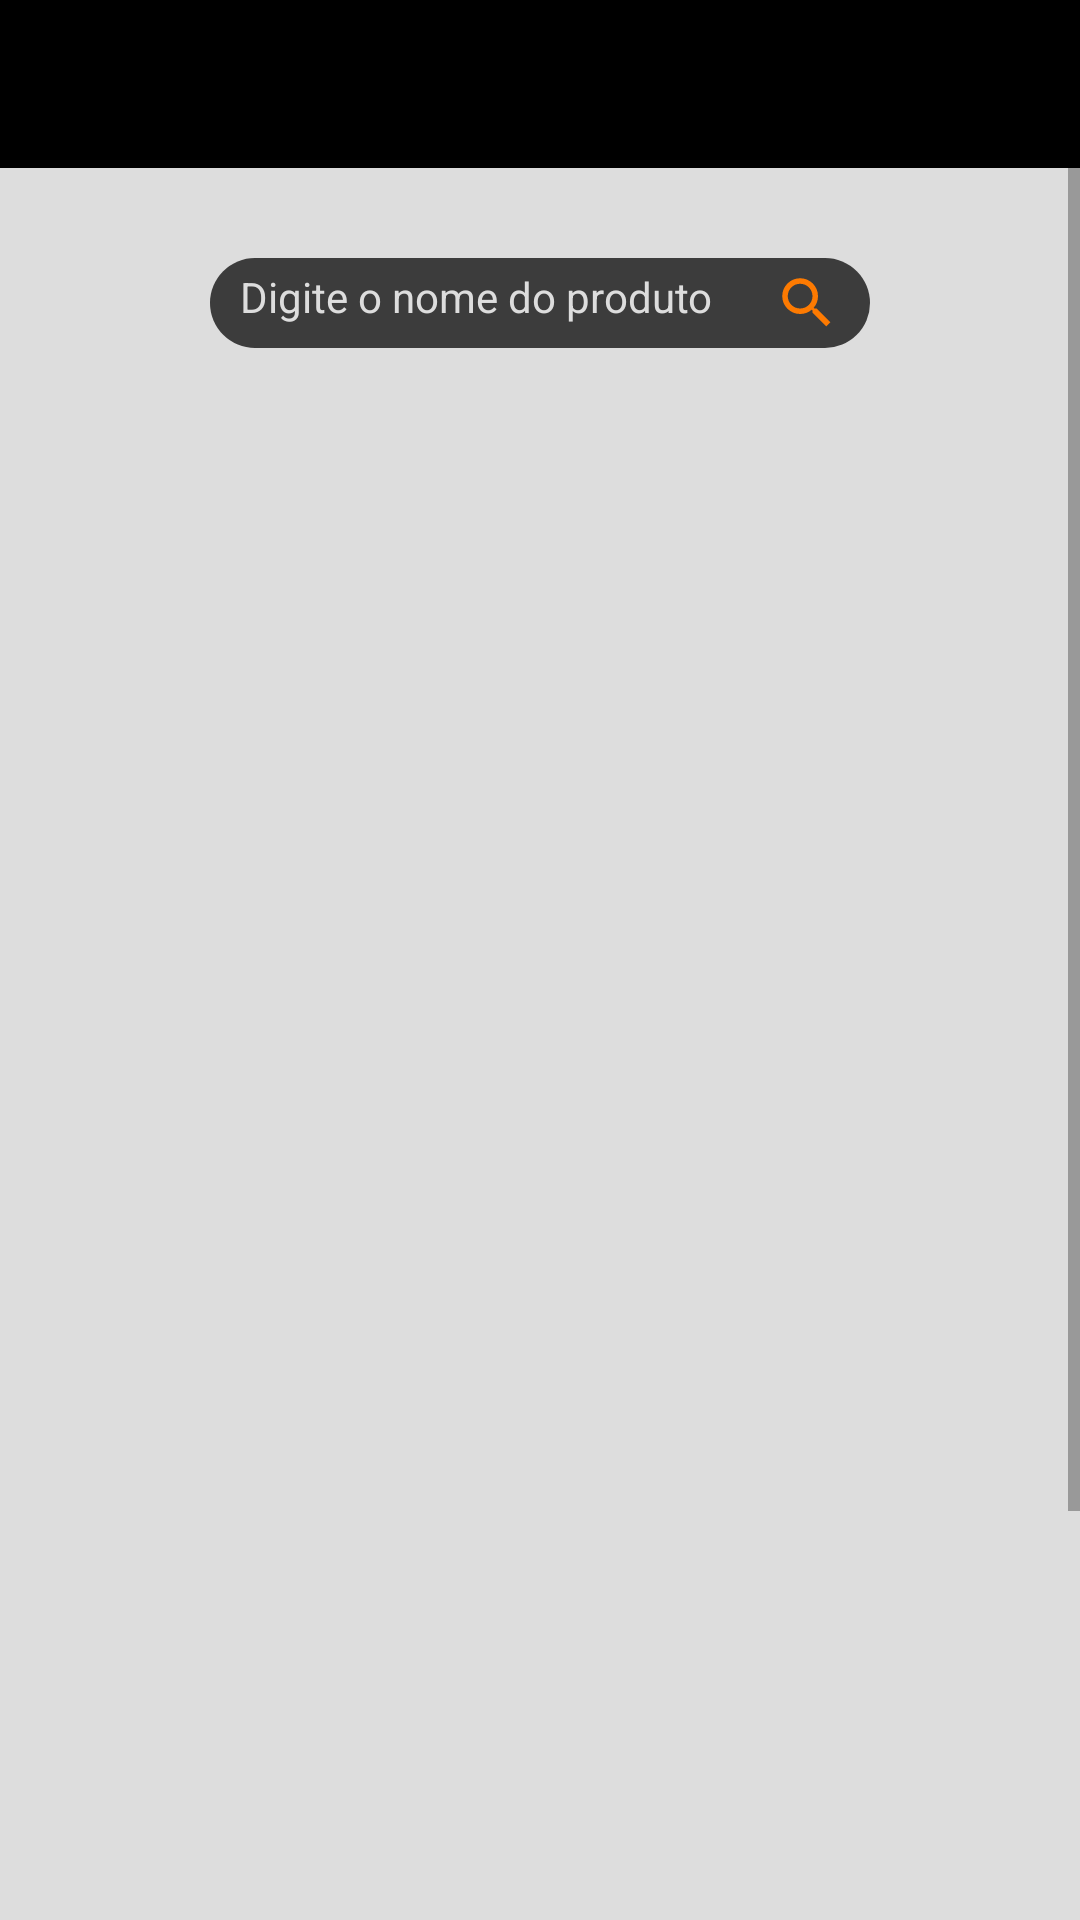

Point at icon controls on the screen. Image size 1080px x 1920px, points as (x,y).
Pesquisar Produtos: (806,302)
